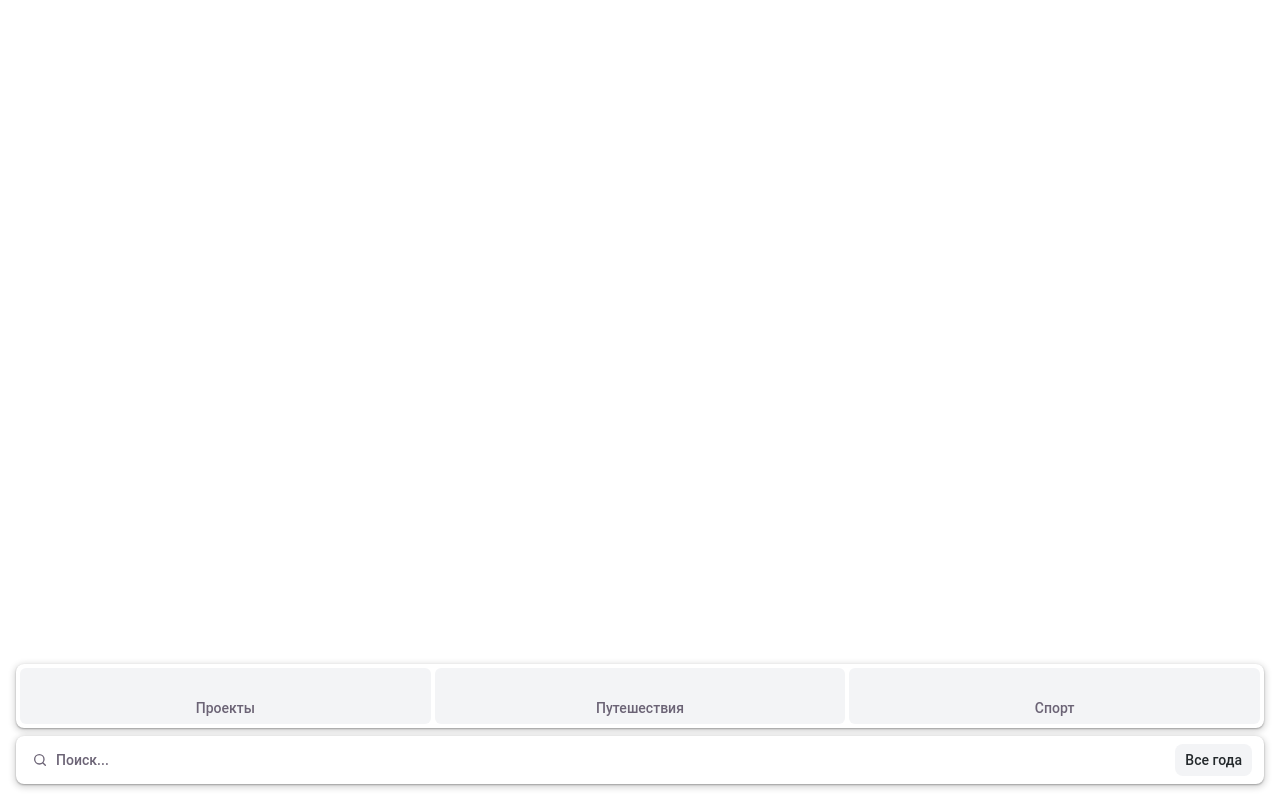
Test: CardsMobile/Index › opens filter panel from the list
The image size is (1280, 800).
Click the button "Спорт".
click(1055, 696)  # box [849,668,1260,724]
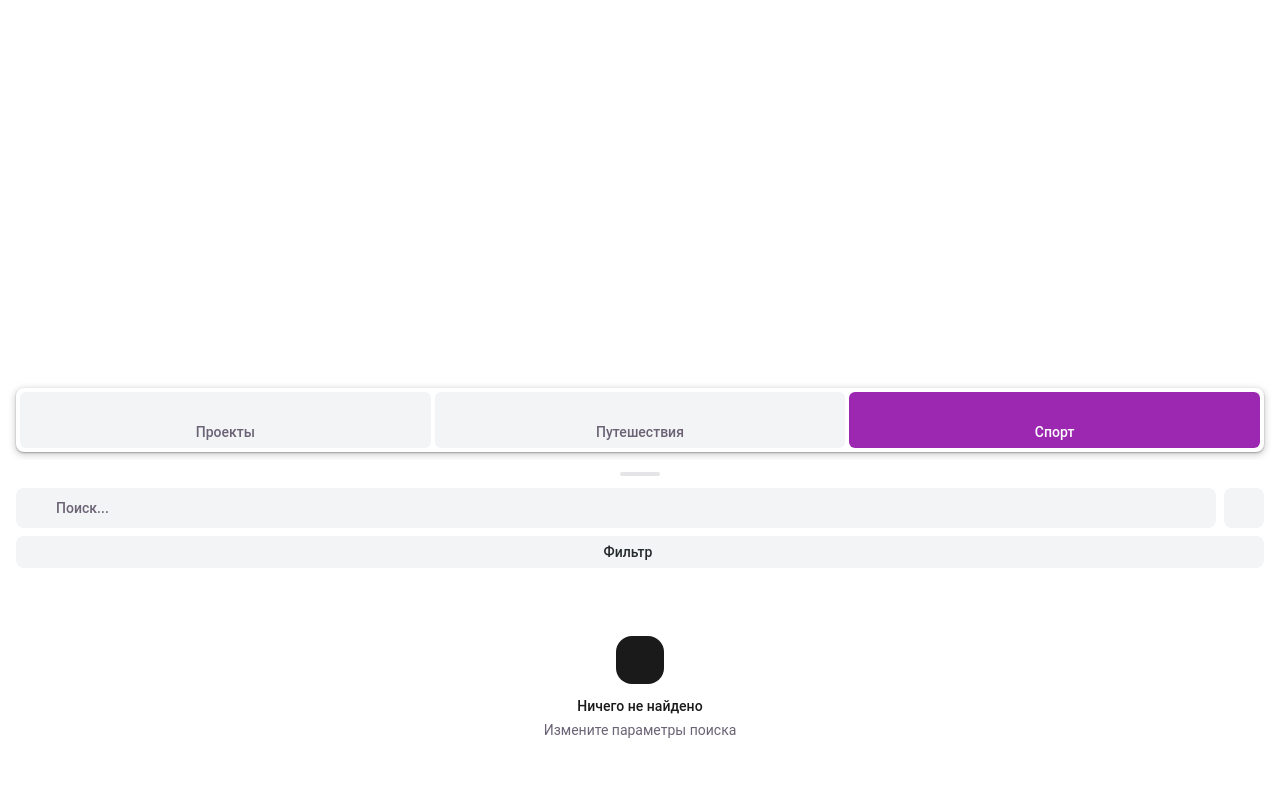
Click the button "Фильтр".
click(640, 552)  # box [16,536,1264,568]
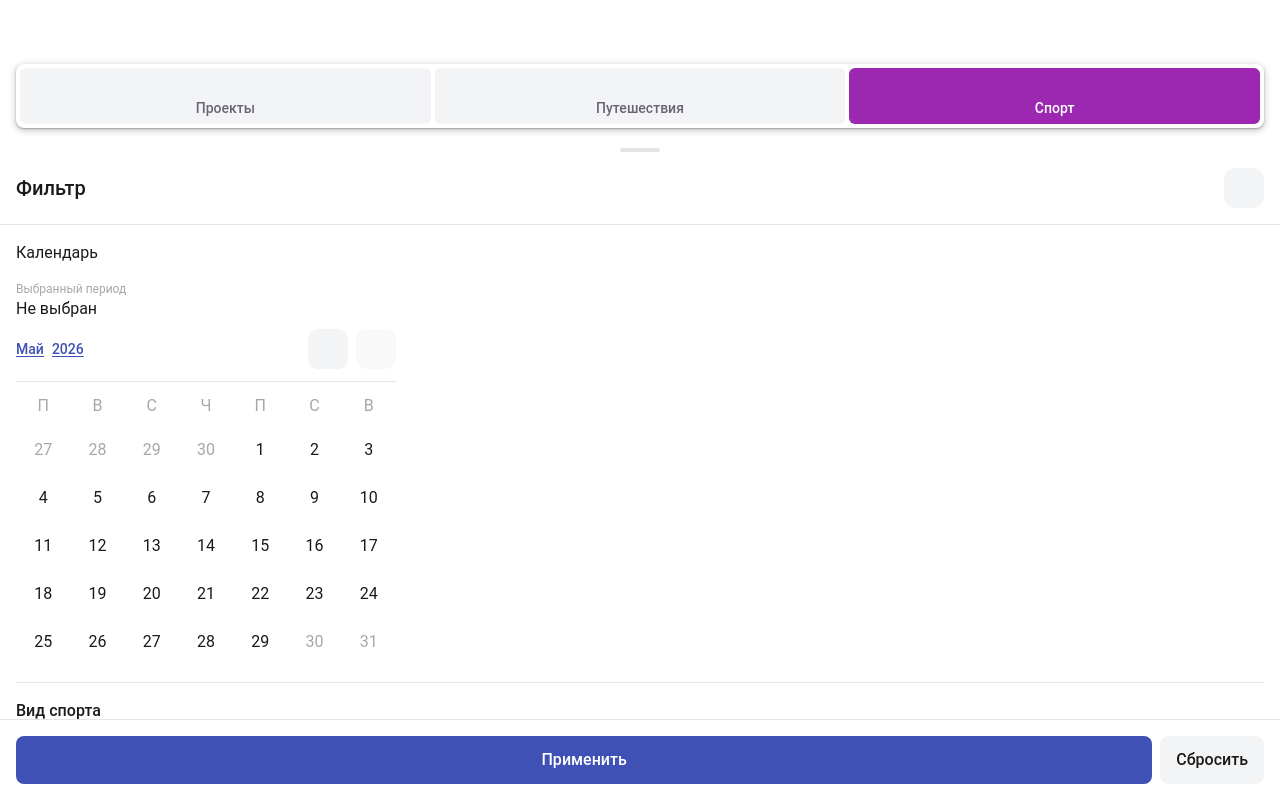
Now the text "Вид спорта" is shown, box [16,701,101,719]
